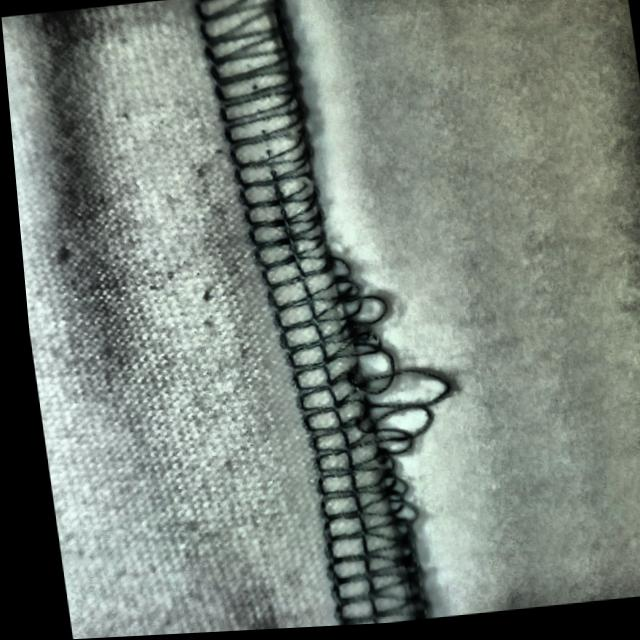Stitch: (250, 248, 471, 631)
